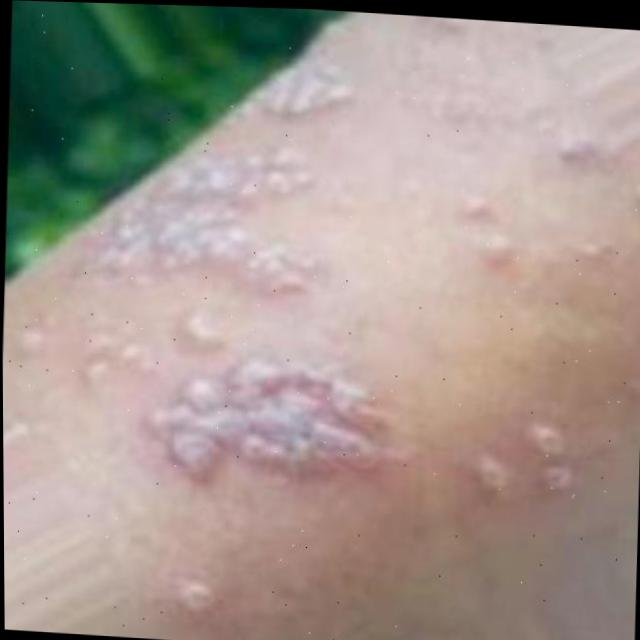Shingles: (107, 41, 378, 523)
